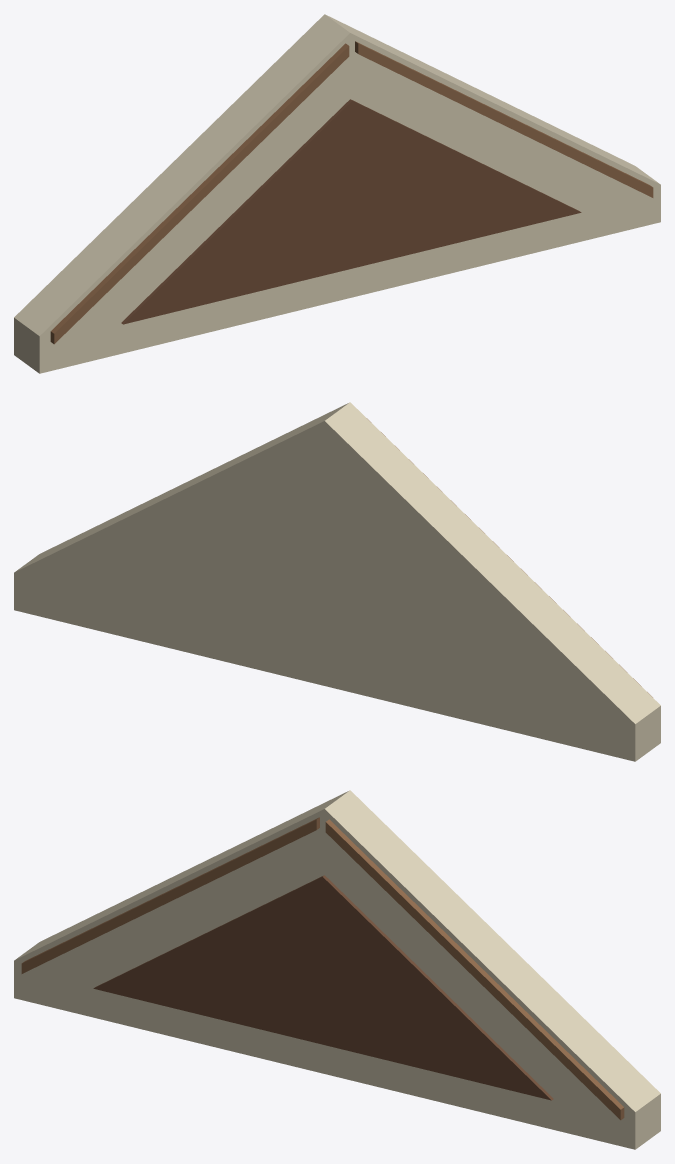
The model's file is rpg-mansion-gable-end-closure-01.glb.
3 views of the same model, one above another, from view 1: azimuth 30°, elevation 25°; view 2: azimuth 150°, elevation 25°; view 3: azimuth 330°, elevation 25° (orthographic).
Parts seen in each view (by area): view 1: rpg-mansion-gable-end-closure-01; view 2: rpg-mansion-gable-end-closure-01; view 3: rpg-mansion-gable-end-closure-01.
Boxes of the visible parts, <box> form: rpg-mansion-gable-end-closure-01: <box>14,14,660,373</box>; rpg-mansion-gable-end-closure-01: <box>14,402,660,761</box>; rpg-mansion-gable-end-closure-01: <box>14,790,660,1149</box>.
Bounding box in the file's own units: 3.36 × 1.37 × 0.273.
